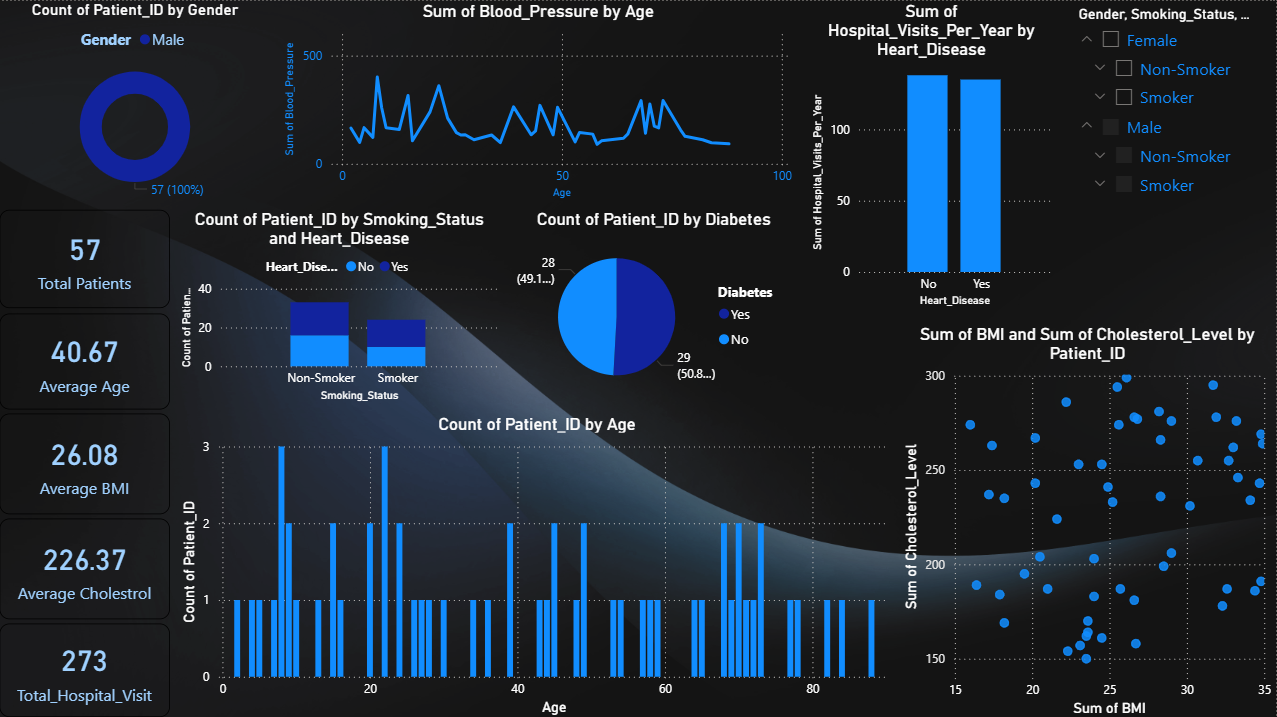

This screenshot's page, from the dashboard's own definition file:
{"tool":"powerbi","page":{"name":"Page 2","canvas":[1280,720],"ordinal":0},"visuals":[{"type":"card","fields":{"Values":["healthcare_analytic.Total Patients"]},"box":[2.7,209,170.4,98.3],"z":0},{"type":"card","fields":{"Values":["healthcare_analytic.Average Age"]},"box":[2.7,312.2,170.4,95.8],"z":1},{"type":"card","fields":{"Values":["healthcare_analytic.Average BMI"]},"box":[2.7,413,170.4,100.8],"z":2},{"type":"card","fields":{"Values":["healthcare_analytic.Average Cholestrol"]},"box":[2.7,517.5,170.4,100.8],"z":3},{"type":"card","fields":{"Values":["healthcare_analytic.Total_Hospital_Visit"]},"box":[2.7,622,170.4,93.3],"z":4},{"type":"donutChart","fields":{"Category":["healthcare_analytic.Gender"],"Y":["CountNonNull(healthcare_analytic.Patient_ID)"]},"box":[0,0,276.2,202.8],"z":5},{"type":"clusteredColumnChart","fields":{"Category":["healthcare_analytic.Age"],"Y":["CountNonNull(healthcare_analytic.Patient_ID)"]},"box":[179.1,413,722.7,307.3],"z":6},{"type":"columnChart","fields":{"Category":["healthcare_analytic.Smoking_Status"],"Y":["CountNonNull(healthcare_analytic.Patient_ID)"],"Series":["healthcare_analytic.Heart_Disease"]},"box":[179.1,207.7,327.2,197.8],"z":7},{"type":"pieChart","fields":{"Category":["healthcare_analytic.Diabetes"],"Y":["CountNonNull(healthcare_analytic.Patient_ID)"]},"box":[513.8,207.7,286.1,197.8],"z":8},{"type":"lineChart","fields":{"Category":["healthcare_analytic.Age"],"Y":["Sum(healthcare_analytic.Blood_Pressure)"]},"box":[282.4,0,517.5,202.8],"z":9},{"type":"clusteredColumnChart","fields":{"Category":["healthcare_analytic.Heart_Disease"],"Y":["Sum(healthcare_analytic.Hospital_Visits_Per_Year)"]},"box":[809.8,0,248.8,311],"z":10},{"type":"slicer","fields":{"Values":["healthcare_analytic.Gender","healthcare_analytic.Smoking_Status","healthcare_analytic.Diabetes","healthcare_analytic.Heart_Disease","healthcare_analytic.Age"]},"box":[1068.6,0,211.5,283.6],"z":11},{"type":"scatterChart","fields":{"X":["Sum(healthcare_analytic.BMI)"],"Y":["Sum(healthcare_analytic.Cholesterol_Level)"],"Category":["healthcare_analytic.Patient_ID"]},"box":[901.9,322.2,378.2,398.1],"z":12}]}

Visuals, with their boxes in screenshot pixels (x1, y1, x2, y2), scaled from the page's 1280x720 canvas onto the 1277x717 screenshot:
card - healthcare_analytic.Total Patients: BBox(3, 208, 173, 306)
card - healthcare_analytic.Average Age: BBox(3, 311, 173, 406)
card - healthcare_analytic.Average BMI: BBox(3, 411, 173, 512)
card - healthcare_analytic.Average Cholestrol: BBox(3, 515, 173, 616)
card - healthcare_analytic.Total_Hospital_Visit: BBox(3, 619, 173, 712)
donutChart - healthcare_analytic.Gender x CountNonNull(healthcare_analytic.Patient_ID): BBox(0, 0, 276, 202)
clusteredColumnChart - healthcare_analytic.Age x CountNonNull(healthcare_analytic.Patient_ID): BBox(179, 411, 900, 716)
columnChart - healthcare_analytic.Smoking_Status x CountNonNull(healthcare_analytic.Patient_ID): BBox(179, 207, 505, 404)
pieChart - healthcare_analytic.Diabetes x CountNonNull(healthcare_analytic.Patient_ID): BBox(513, 207, 798, 404)
lineChart - healthcare_analytic.Age x Sum(healthcare_analytic.Blood_Pressure): BBox(282, 0, 798, 202)
clusteredColumnChart - healthcare_analytic.Heart_Disease x Sum(healthcare_analytic.Hospital_Visits_Per_Year): BBox(808, 0, 1056, 310)
slicer - healthcare_analytic.Gender x healthcare_analytic.Smoking_Status: BBox(1066, 0, 1276, 282)
scatterChart - Sum(healthcare_analytic.BMI) x Sum(healthcare_analytic.Cholesterol_Level): BBox(900, 321, 1276, 716)
